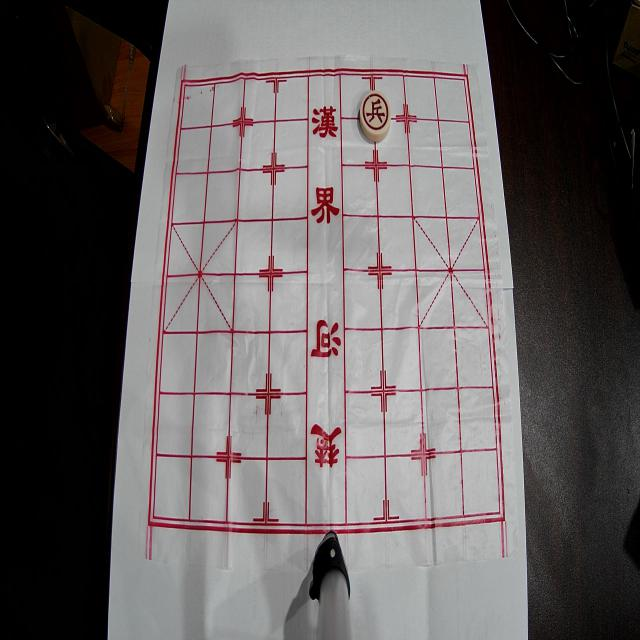red-soldier: (360, 90, 390, 142)
